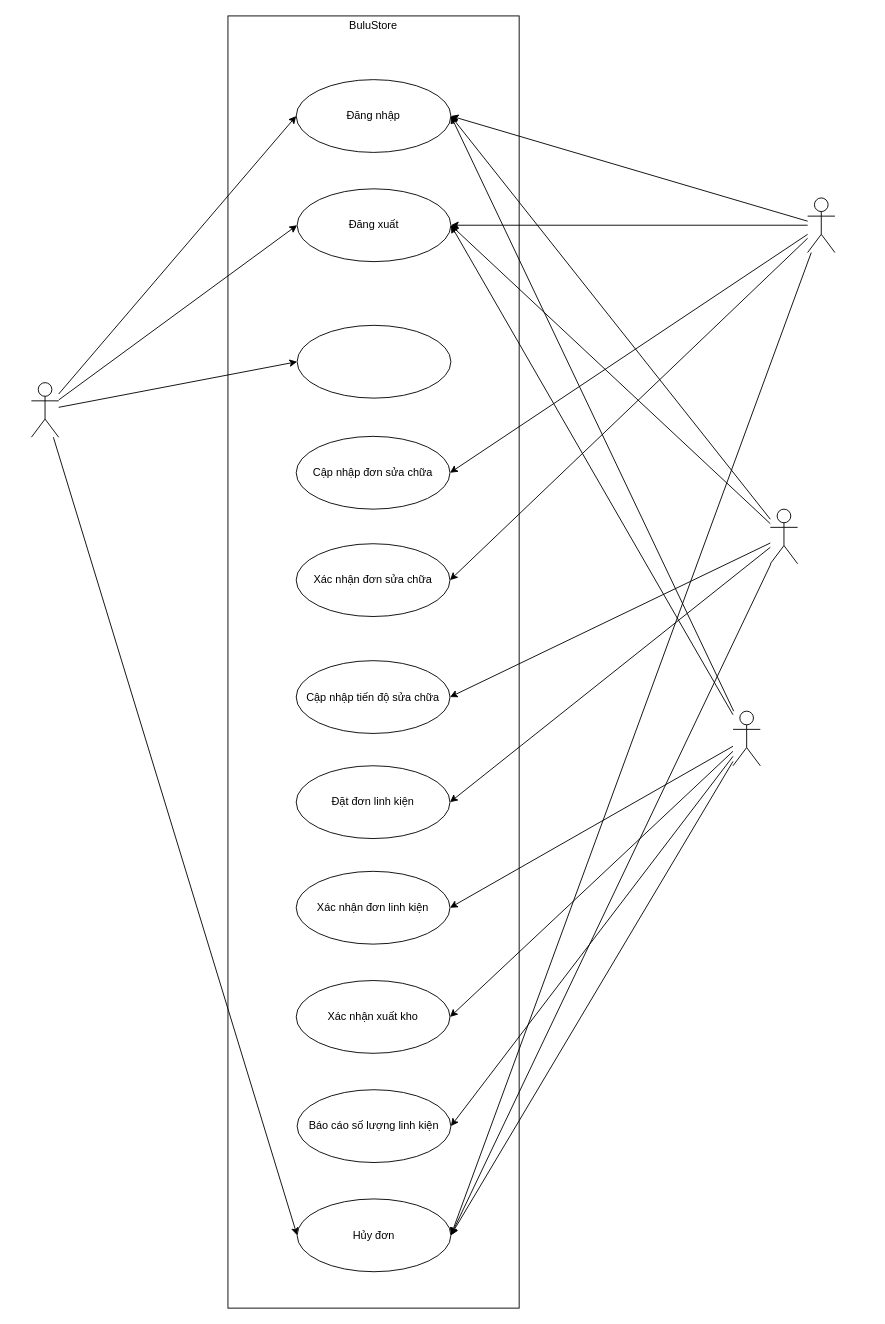
This 885x1324 diagram has some shape labels left out. The centre of each missing label's shape, as x and y in pixels:
"Khách hàng" belongs at [44,409].
"Nhân viên kho" belongs at [746,738].
"Nhân viên kỹ thuật" belongs at [783,536].
"Nhân viên tiếp nhận" belongs at [821,225].
"Tạo đơn sửa chữa" belongs at [373,361].
